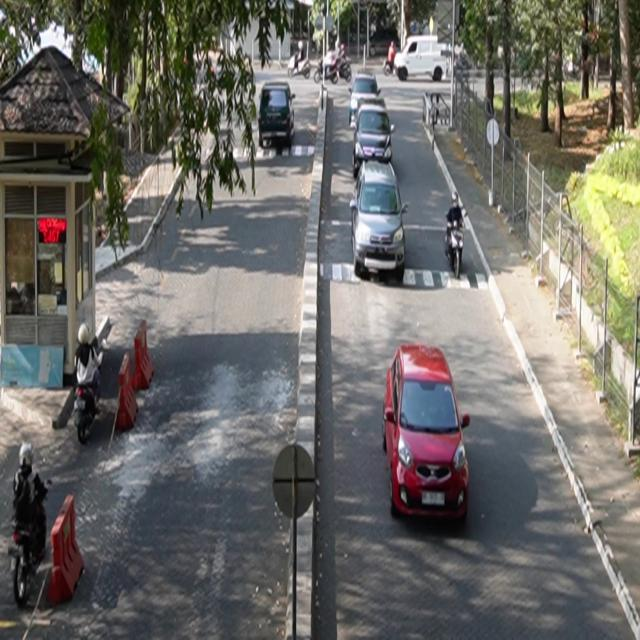car: (383, 344, 471, 523), (351, 159, 410, 281), (352, 104, 396, 178), (259, 82, 296, 149), (349, 74, 382, 126)
